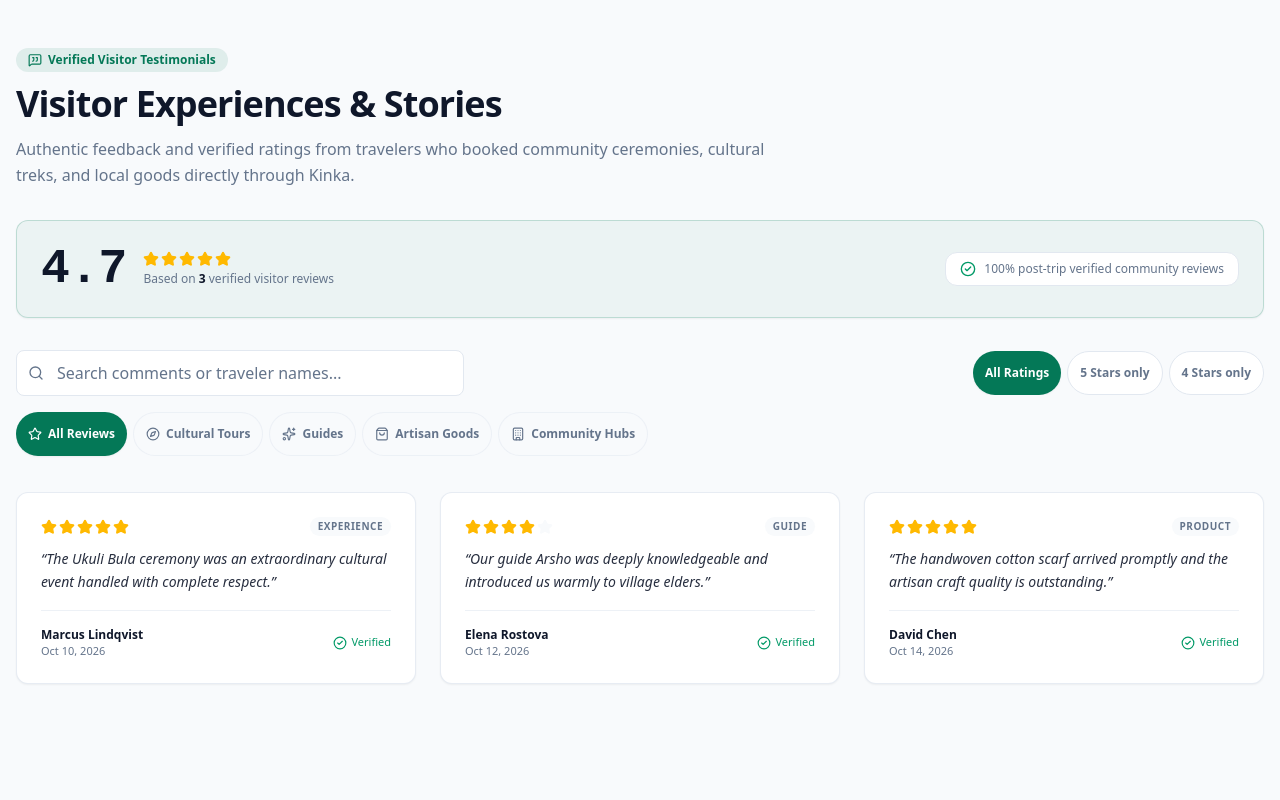
Test: Testimonials and public reviews (F-309) › filters reviews by target category
This screenshot has width=1280, height=800.
Expected: the text "Marcus Lindqvist" is shown, [41,626,143,642]
// Filter by Guides
Click the button with test id "filter-category-guide" at (313, 434), box [269,412,356,456]
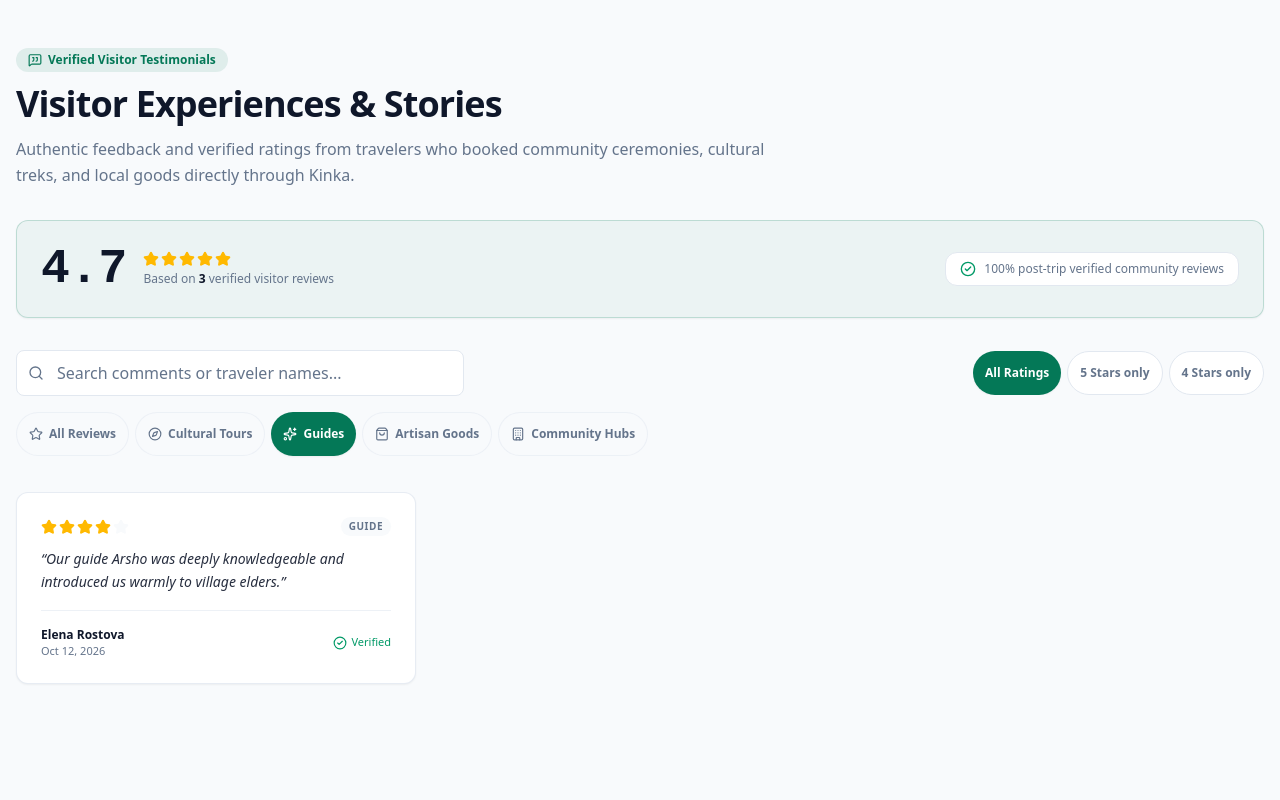
Expected: the text "Elena Rostova" is shown, [41,626,124,642]
Result: the text "Marcus Lindqvist" is gone
Result: the text "David Chen" is gone
// Filter by Artisan Goods (Product)
Click the button with test id "filter-category-product" at (427, 434), box [362,412,492,456]
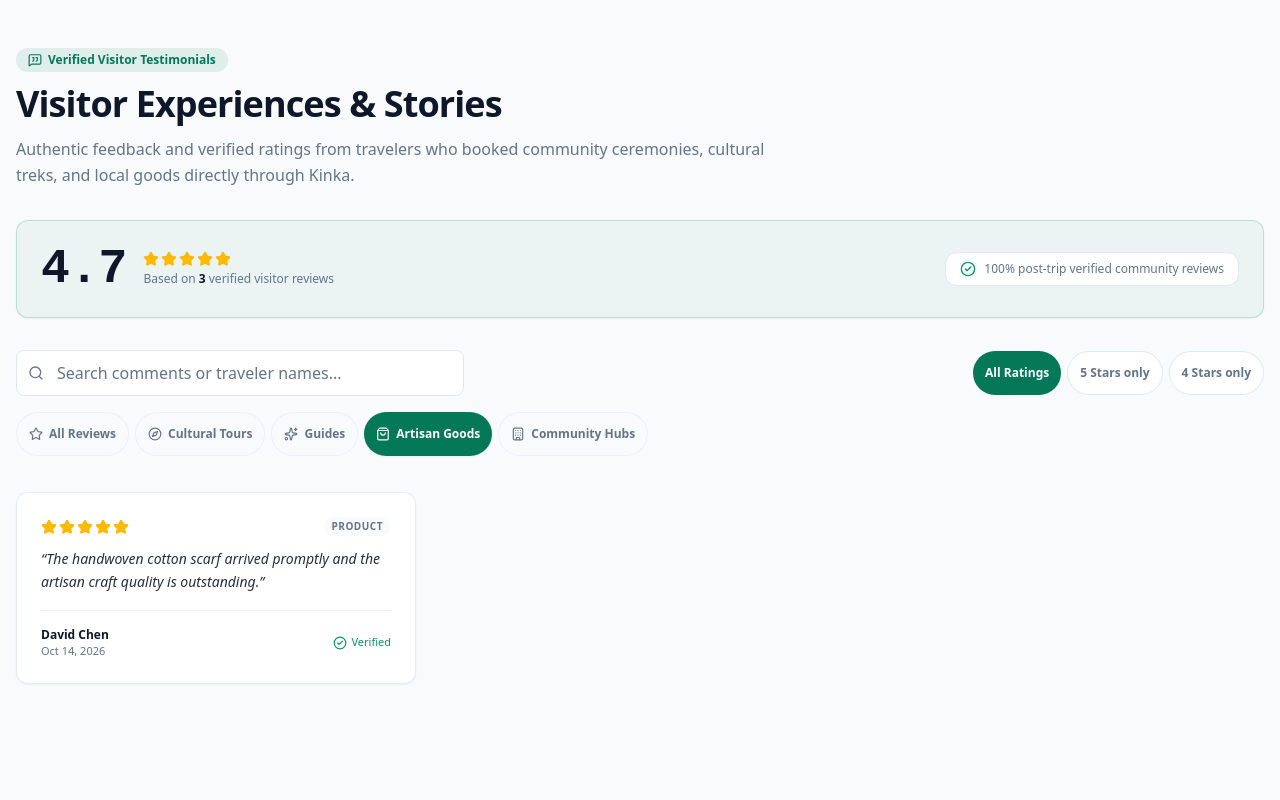
Result: the text "David Chen" is shown at [41,626,109,642]
Result: the text "Elena Rostova" is gone
